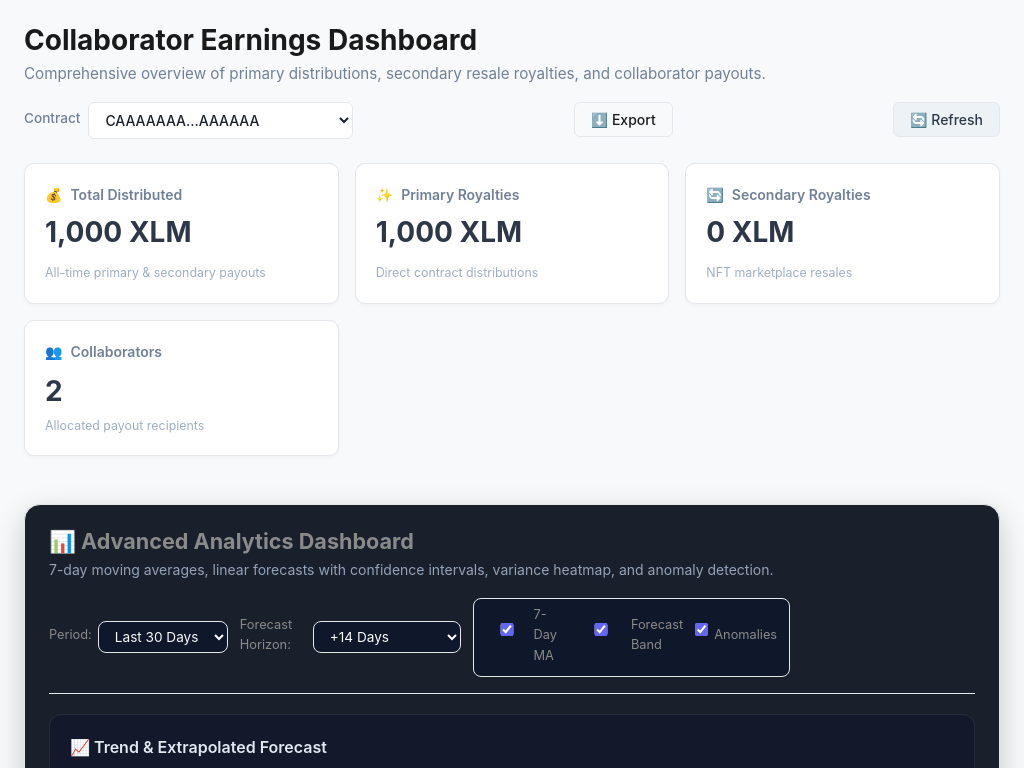
Scenario: EarningsDashboard Component › multi-contract selector › shows the aggregated comparison view when All Contracts is selected
Expected: the element with test id "contract-selector" is shown, [24,102,353,139]
Step 1. Select "All Contracts — Total & Compare" in the dropdown labelled "Contract" → (221, 120), box [88,102,353,139]
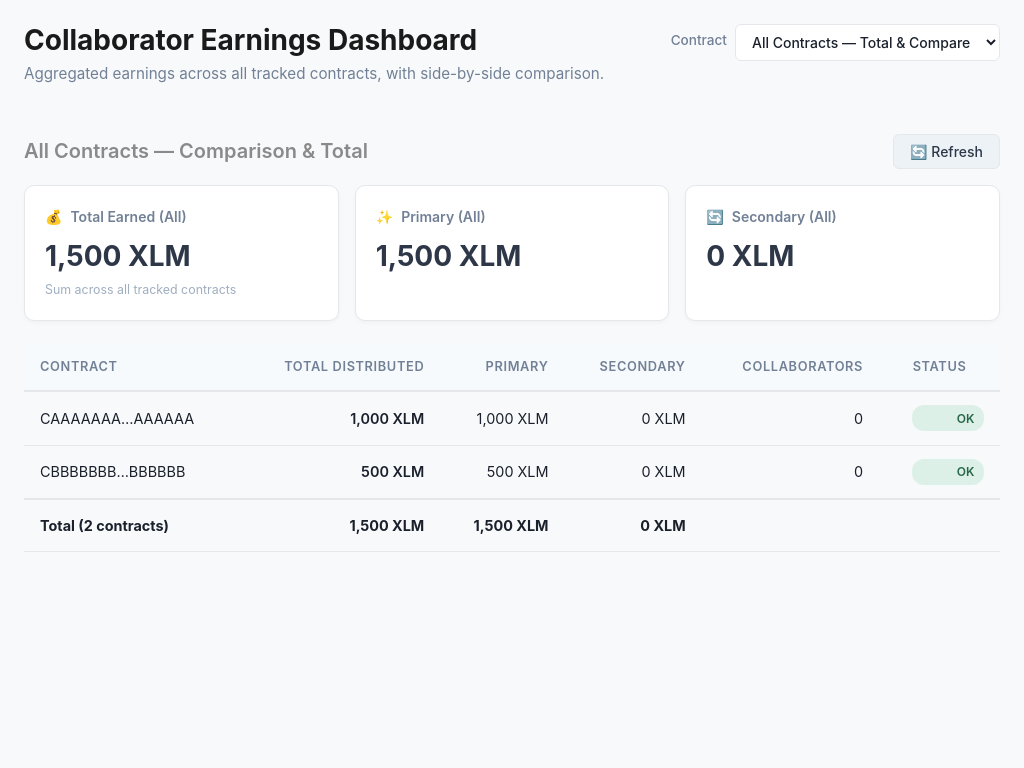
Expected: the element with test id "multi-contract-comparison" is shown, [24,134,1000,552]
Expected: the text with test id "total-all-distributed" shows "1,500", [45,239,191,273]
